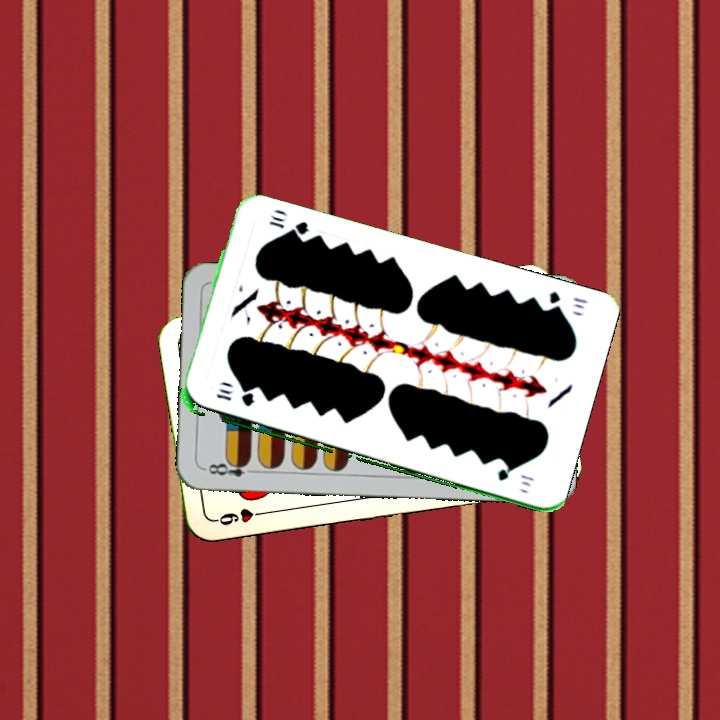E8: (201, 456, 260, 480)
G10: (543, 287, 591, 316), (212, 385, 257, 409)
H9: (210, 504, 269, 528)
